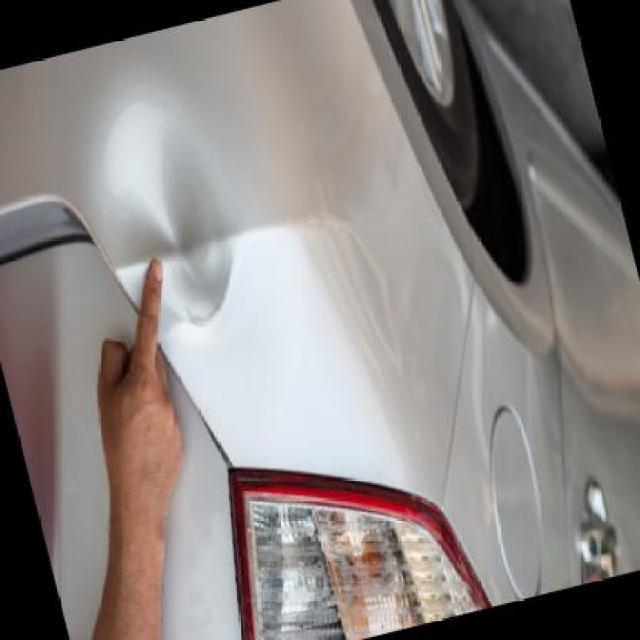dent: (97, 102, 231, 315)
